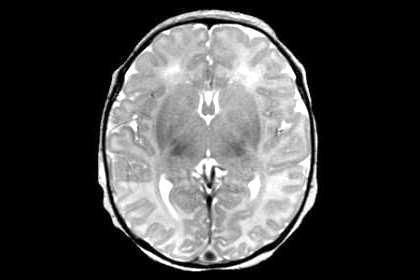Normal_Brain: (16, 2, 420, 280)
